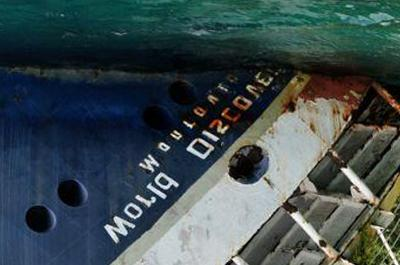rust: (302, 72, 368, 105), (360, 83, 397, 126)
